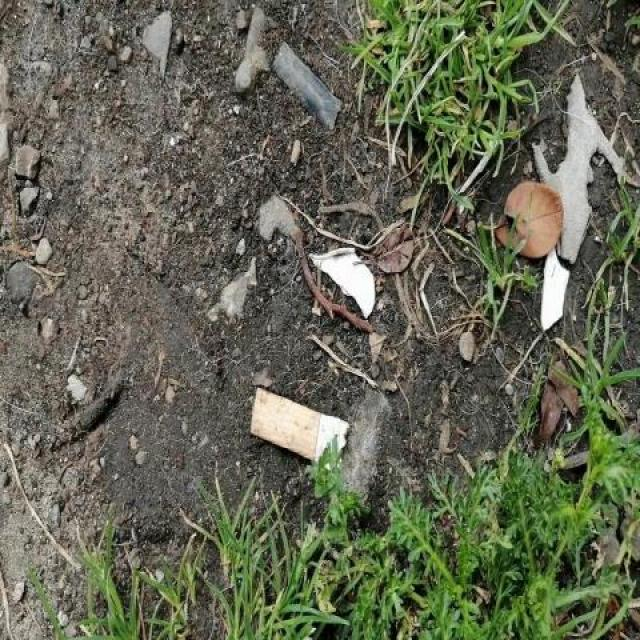non-organic waste: (246, 383, 353, 477)
